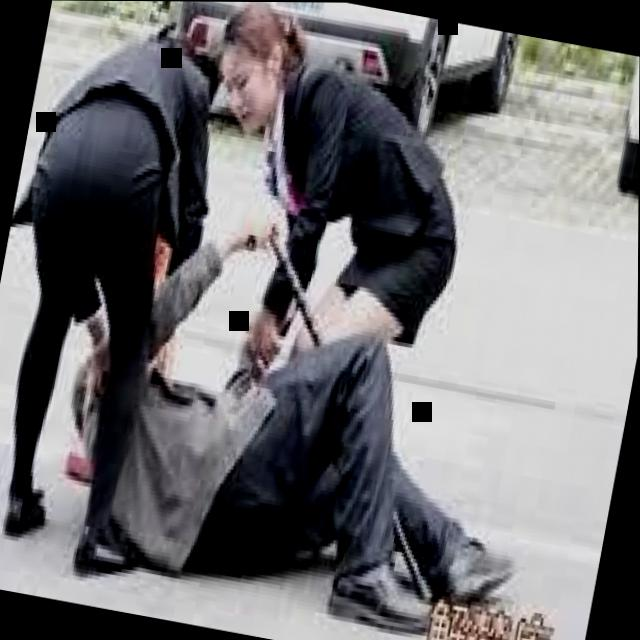Fall-Detected: (44, 165, 576, 640)
